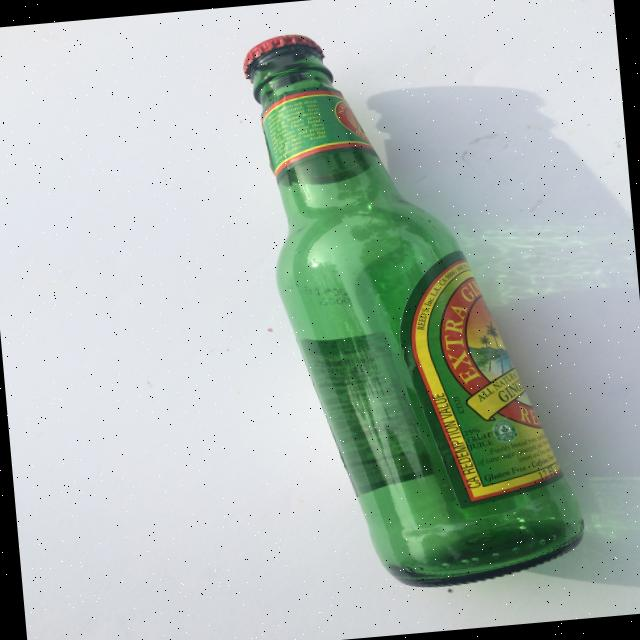glass: (240, 11, 590, 599)
